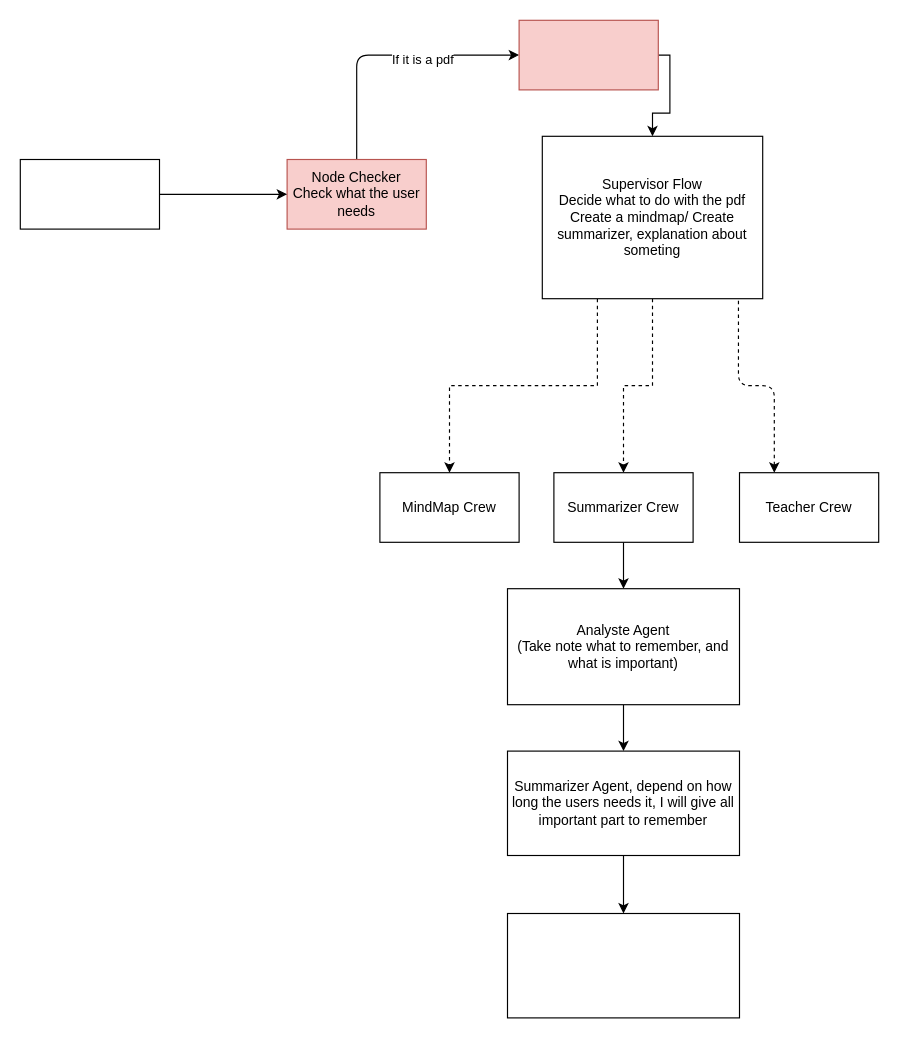
Some shapes in this 899 by 1038 pixel diagram are drawn without their labels. Each missing label, with the box of its shape:
Entry point: (19, 158, 160, 229)
Markdown Writer agent: (506, 912, 740, 1018)
PDF RAG Crew: (518, 19, 658, 90)
